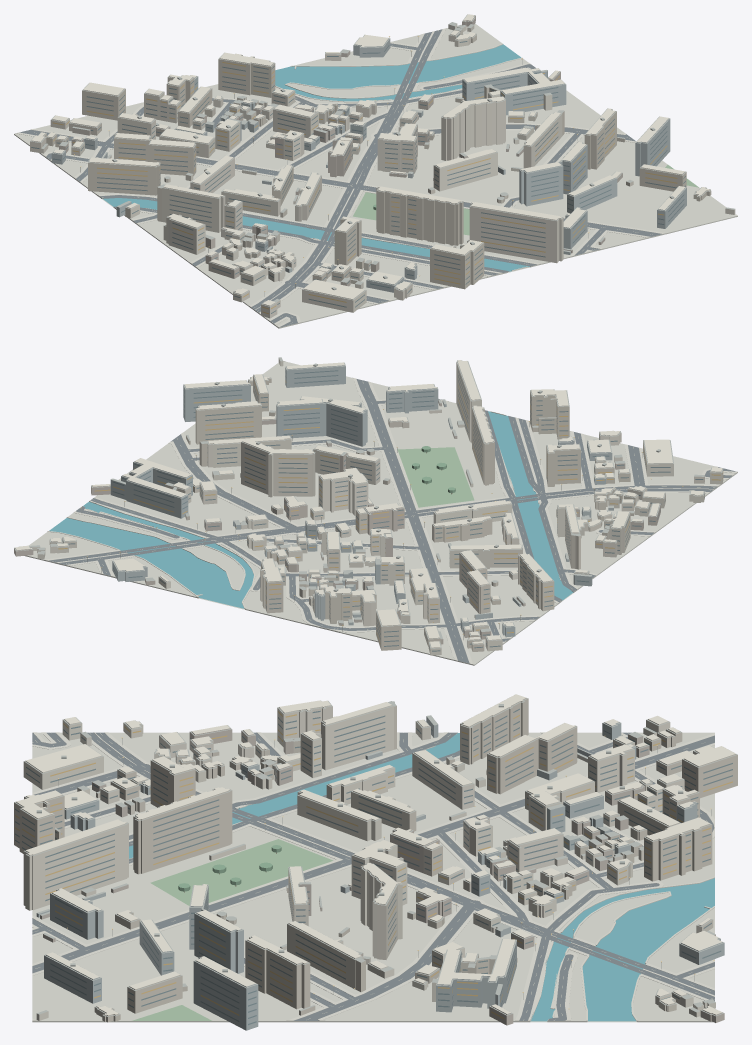
3 views of the same model, one above another, from view 1: azimuth 30°, elevation 25°; view 2: azimuth 150°, elevation 25°; view 3: azimuth 270°, elevation 25° (orthographic). The views are drawn at different scales.
Parts seen in each view (by area): view 1: city; view 2: city; view 3: city.
Boxes of the visible parts, x1,y1,x2,y2 form: city: (14, 14, 737, 328); city: (14, 357, 737, 665); city: (14, 694, 737, 1030).
Bounding box in the file's own units: 525 × 47.05 × 530.
